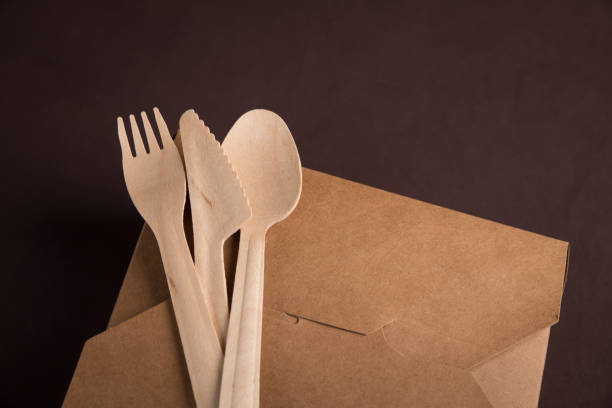Wooden Utensils: (111, 87, 301, 393)
